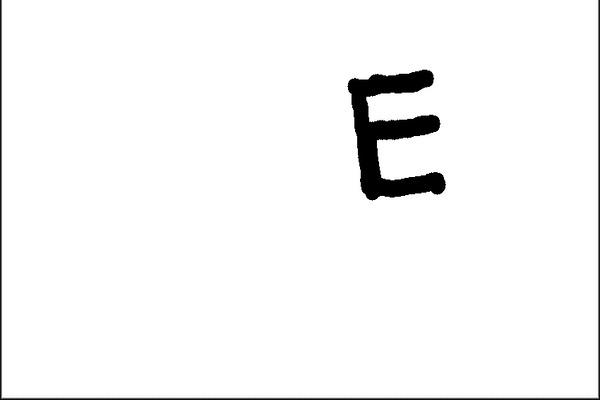E: (343, 65, 450, 203)
